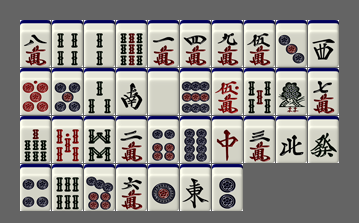0m: (212, 68, 243, 115)
0p: (20, 68, 51, 115)
0s: (52, 116, 83, 163)
1m: (148, 20, 179, 67)
1p: (148, 164, 179, 211)
1s: (276, 68, 307, 115)
1z: (180, 164, 211, 211)
2m: (116, 116, 147, 163)
2p: (212, 164, 243, 211)
2s: (84, 20, 115, 67)
2z: (116, 68, 147, 115)
3m: (244, 116, 275, 163)
3p: (276, 20, 307, 67)
3s: (84, 68, 115, 115)
3z: (308, 20, 339, 67)
4m: (180, 20, 211, 67)
4p: (20, 164, 51, 211)
4s: (52, 20, 83, 67)
4z: (276, 116, 307, 163)
5m: (244, 20, 275, 67)
5p: (52, 68, 83, 115)
5s: (244, 68, 275, 115)
5z: (148, 68, 179, 115)
6m: (116, 164, 147, 211)
6p: (148, 116, 179, 163)
6s: (52, 164, 83, 211)
6z: (308, 116, 339, 163)
7m: (308, 68, 339, 115)
7p: (84, 164, 115, 211)
7s: (20, 116, 51, 163)
7z: (212, 116, 243, 163)
8m: (20, 20, 51, 67)
8p: (180, 116, 211, 163)
8s: (84, 116, 115, 163)
9m: (212, 20, 243, 67)
9p: (180, 68, 211, 115)
9s: (116, 20, 147, 67)
